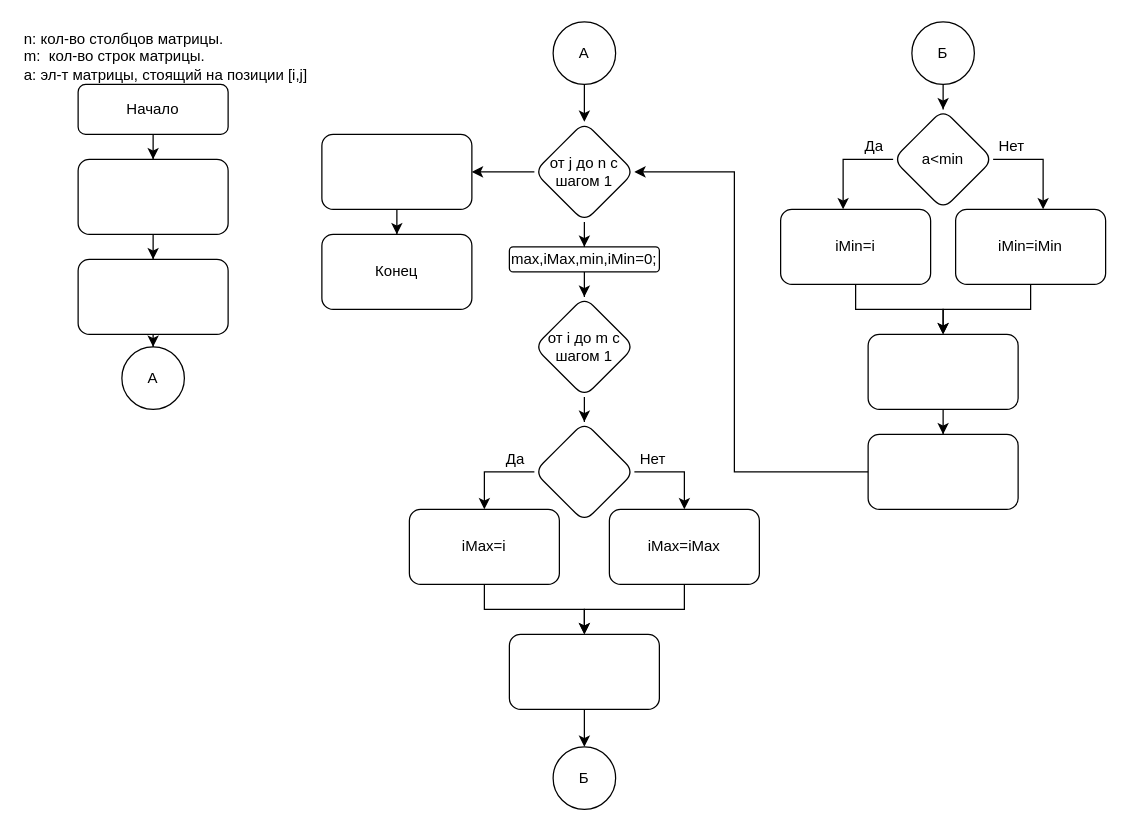
Some shapes in this 1128 by 831 pixel diagram are drawn without their labels. The box of each missing label's shape, as (x1, y1, x2, y2) in pixels:
a>max: (533, 421, 634, 522)
max=matrix[iMax][j];: (508, 633, 659, 709)
min=matrix[iMin][j];: (867, 333, 1018, 409)
Выводим исходную матрицу.: (77, 258, 228, 334)
Выводим матрицу: (321, 133, 472, 209)
Генерируем матрицу(matrix) случайных чисел.: (77, 158, 228, 234)
меняем местами matrix[iMin][j] и matrix[iMax][j];: (867, 433, 1018, 509)
